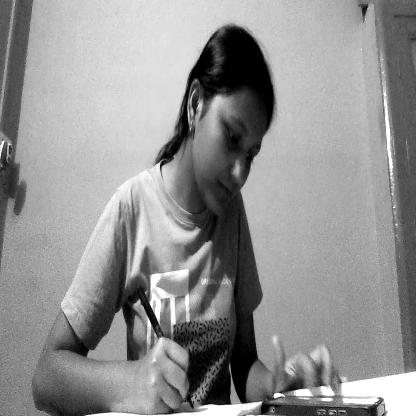Distracted: (188, 32, 274, 216)
